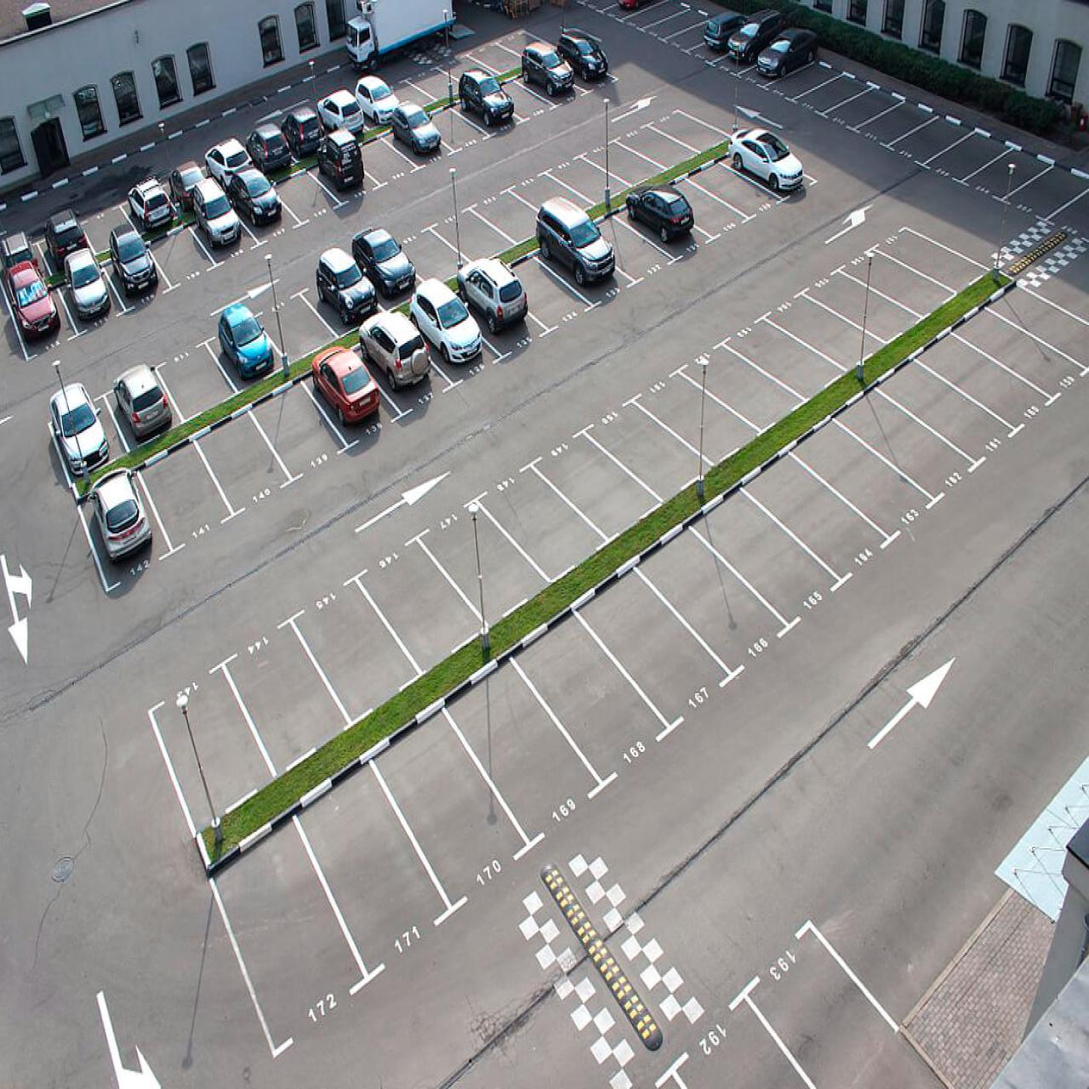cars: (77, 467, 163, 596), (300, 356, 390, 448), (311, 243, 383, 348), (443, 274, 537, 354), (532, 224, 626, 304), (100, 353, 178, 448), (360, 332, 449, 414), (40, 385, 118, 475), (407, 288, 483, 378), (352, 230, 423, 314), (216, 301, 279, 395), (619, 187, 706, 254), (0, 284, 71, 351), (736, 126, 797, 203), (736, 32, 822, 85), (105, 235, 164, 309), (711, 13, 783, 68), (448, 87, 522, 137), (228, 179, 295, 234), (385, 108, 453, 161), (687, 5, 759, 55), (56, 269, 114, 326), (38, 211, 89, 274), (550, 40, 617, 87), (0, 227, 45, 295), (167, 148, 212, 216), (316, 145, 372, 198), (523, 56, 579, 109), (245, 121, 295, 179), (282, 93, 325, 156), (198, 203, 251, 254), (352, 72, 399, 127), (134, 171, 172, 239), (205, 130, 250, 187), (321, 87, 364, 140)
empty: (743, 886, 921, 1078), (434, 657, 599, 839), (501, 609, 682, 773), (374, 710, 531, 899), (201, 825, 355, 1010), (569, 561, 741, 723), (311, 767, 434, 981), (671, 491, 845, 628), (631, 533, 787, 677), (727, 453, 890, 578), (776, 422, 938, 539), (852, 356, 1012, 470), (810, 393, 978, 498), (147, 669, 264, 817), (420, 487, 539, 632), (367, 530, 474, 691), (934, 306, 1082, 409), (537, 420, 656, 548), (309, 562, 409, 709), (899, 338, 1043, 438), (481, 464, 597, 585), (624, 359, 752, 467), (246, 611, 332, 767), (583, 393, 696, 507), (720, 311, 842, 409), (676, 343, 801, 437), (761, 291, 884, 375), (804, 261, 918, 345), (878, 210, 981, 298), (985, 282, 1089, 369), (137, 446, 221, 551), (197, 417, 285, 514), (837, 250, 947, 327), (255, 401, 346, 485), (511, 251, 589, 343), (156, 343, 232, 433), (583, 210, 669, 287), (436, 187, 508, 274), (543, 148, 634, 216), (395, 208, 467, 288), (269, 272, 327, 369), (477, 168, 551, 242), (760, 40, 838, 108), (578, 134, 657, 201), (1009, 158, 1079, 232), (969, 145, 1045, 211), (661, 172, 740, 235), (822, 76, 899, 140), (511, 164, 585, 227), (855, 93, 936, 150), (926, 129, 1000, 190), (887, 106, 961, 166), (694, 166, 776, 219), (804, 55, 867, 122), (648, 103, 717, 160), (154, 225, 211, 293), (620, 119, 687, 176), (409, 100, 487, 145), (349, 129, 415, 180), (490, 74, 557, 118), (86, 198, 131, 259), (271, 169, 332, 214), (644, 2, 709, 42), (667, 5, 724, 48), (411, 53, 460, 101), (469, 32, 522, 76), (492, 15, 550, 55), (439, 42, 490, 86), (379, 69, 428, 113)
